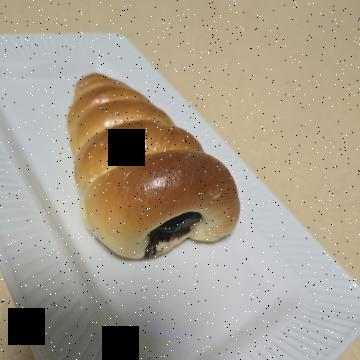cream horn: (65, 117, 294, 308)
